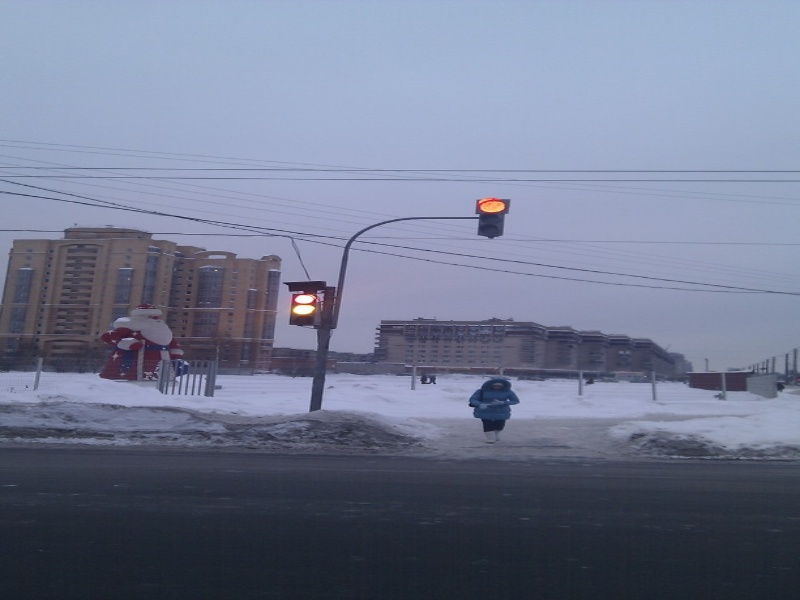yellow_light: (470, 194, 512, 242), (288, 278, 324, 328)
